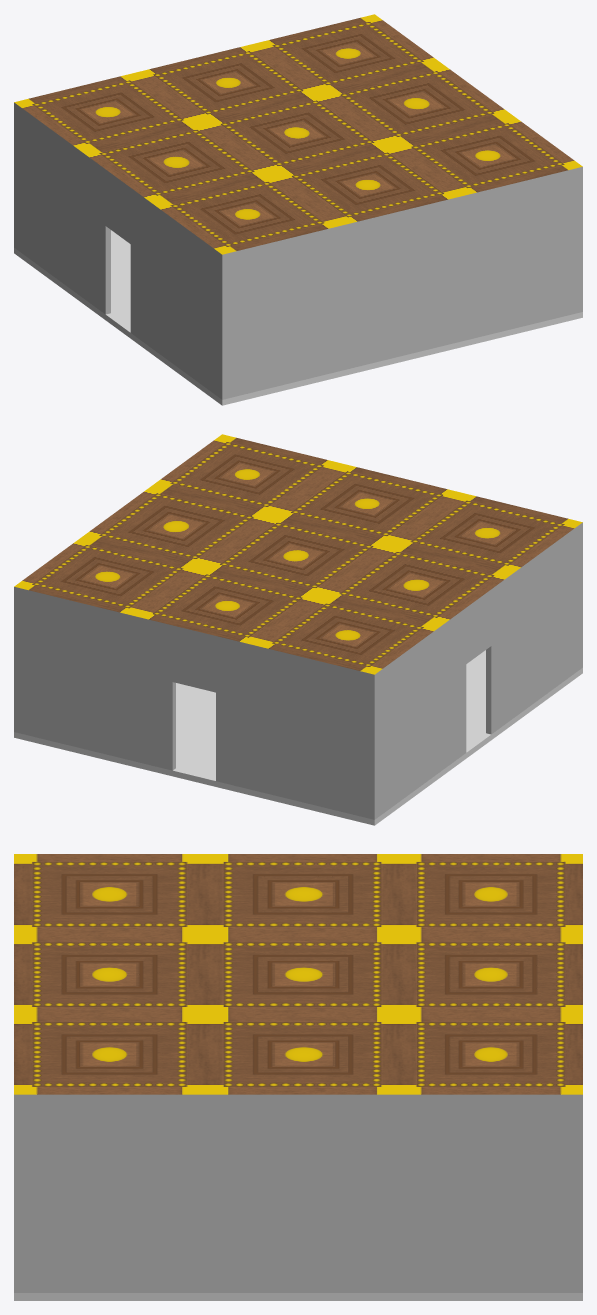
Rendered from SouthEast.fbx.
The picture shows the model from 3 angles, top to bottom: view 1: azimuth 30°, elevation 25°; view 2: azimuth 150°, elevation 25°; view 3: azimuth 270°, elevation 25°; orthographic projection. The views are drawn at different scales.
Parts seen in each view (by area): view 1: Plane; view 2: Plane; view 3: Plane.
Boxes of the visible parts, x1,y1,x2,y2 form: Plane: (14, 14, 582, 405); Plane: (14, 434, 582, 825); Plane: (14, 854, 582, 1300).
Bounding box in the file's own units: 10 × 10 × 4.
